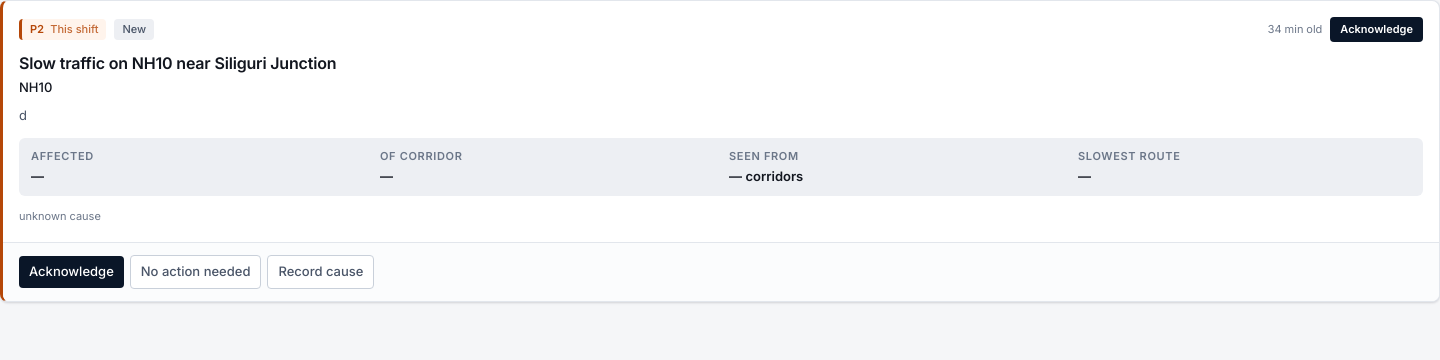
Scenario: IncidentCard › points the officer at the lock when recording is not unlocked
The image size is (1440, 360).
Click the button "Acknowledge" next to "old". click: (1377, 29)
box: [1330,17,1423,42]
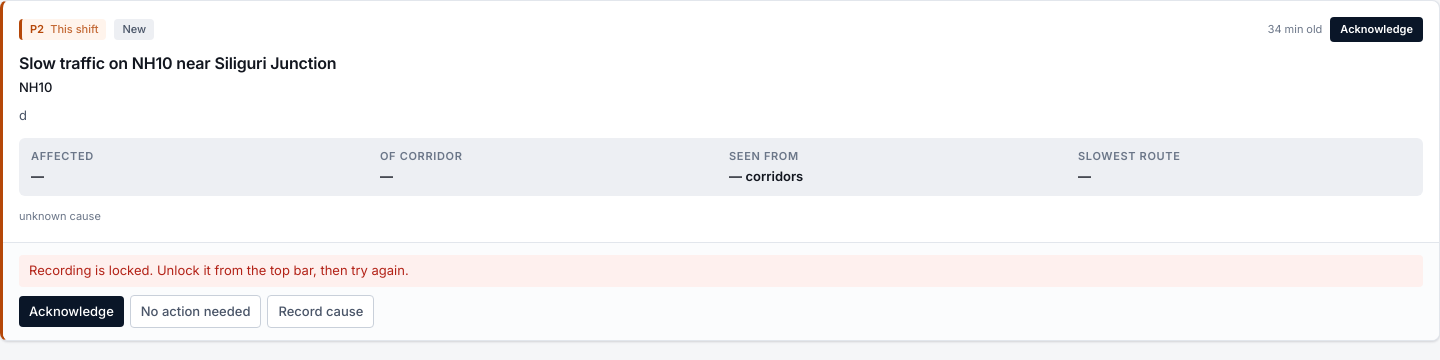
Expected: the text "Unlock" is shown, [29,262,409,278]
